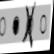correct: (10, 11, 21, 39)
no answer: (38, 9, 48, 38), (0, 13, 8, 40)
not correct: (19, 0, 37, 49)
